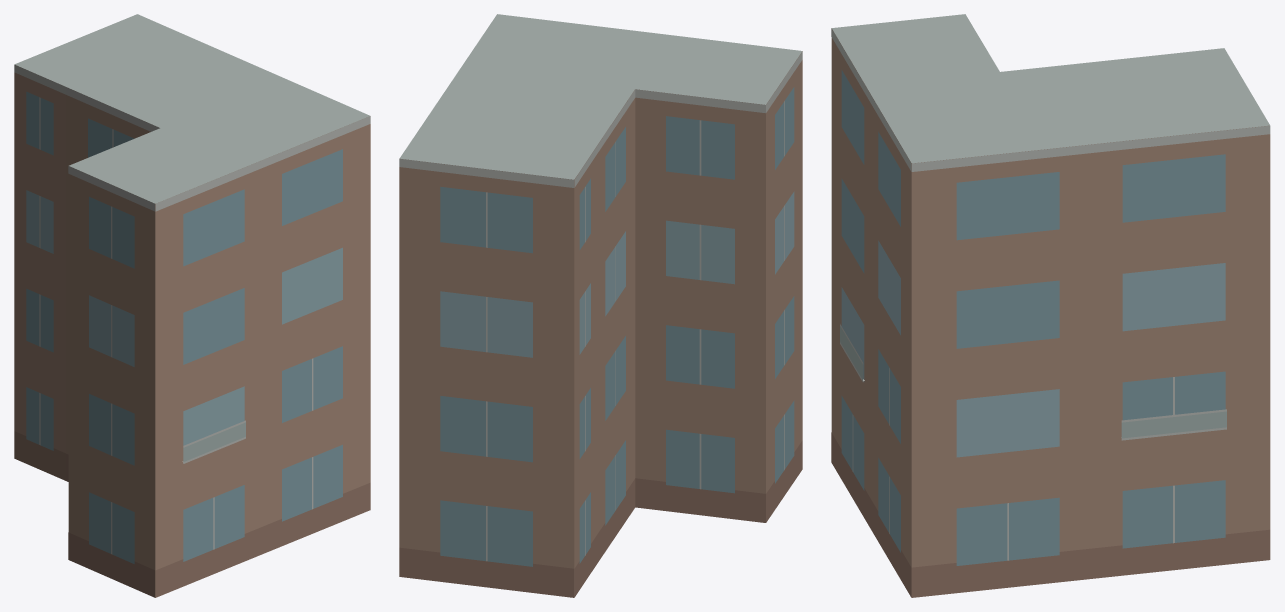
Rendered from residential-9bf1b4b3-9be8-4fb5-a529-b4fde7c3b4a0.glb.
The picture shows the model from 3 angles, left to right: view 1: azimuth 30°, elevation 25°; view 2: azimuth 150°, elevation 25°; view 3: azimuth 270°, elevation 25°; orthographic projection. The views are drawn at different scales.
Visible parts, largest first — view 1: residential-9bf1b4b3-9be8-4fb5-a529-b4fde7c3b4a0.tmp; view 2: residential-9bf1b4b3-9be8-4fb5-a529-b4fde7c3b4a0.tmp; view 3: residential-9bf1b4b3-9be8-4fb5-a529-b4fde7c3b4a0.tmp.
Part boxes in pixels (left/top/right/bottom): residential-9bf1b4b3-9be8-4fb5-a529-b4fde7c3b4a0.tmp: left=14, top=14, right=370, bottom=597; residential-9bf1b4b3-9be8-4fb5-a529-b4fde7c3b4a0.tmp: left=399, top=14, right=802, bottom=597; residential-9bf1b4b3-9be8-4fb5-a529-b4fde7c3b4a0.tmp: left=831, top=14, right=1270, bottom=597.
Bounding box in the file's own units: 9.01 × 12.2 × 11.18.
